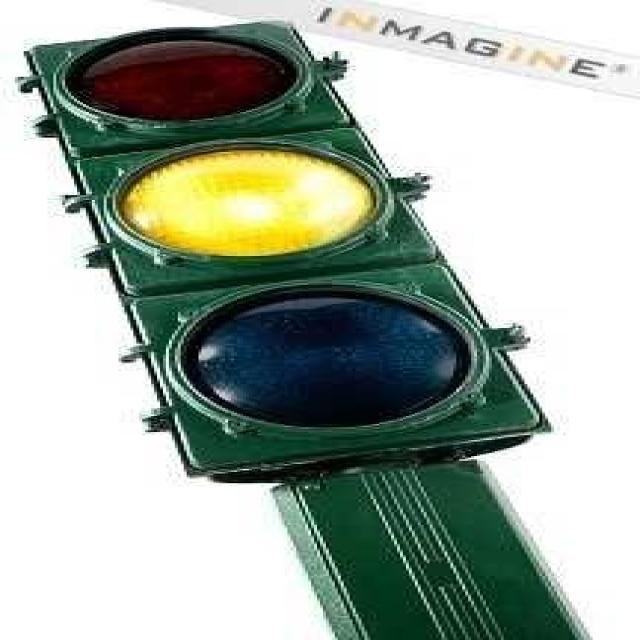Traffic Light -Yellow-: (10, 20, 585, 484)
